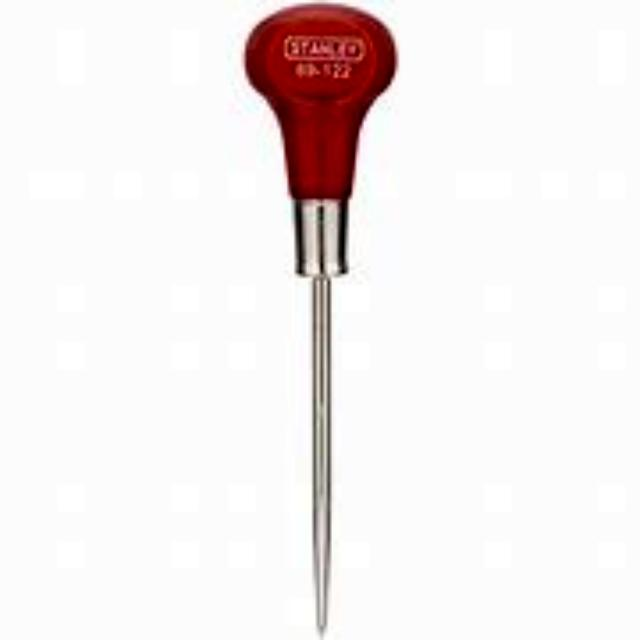ice pick: (242, 8, 402, 640)
